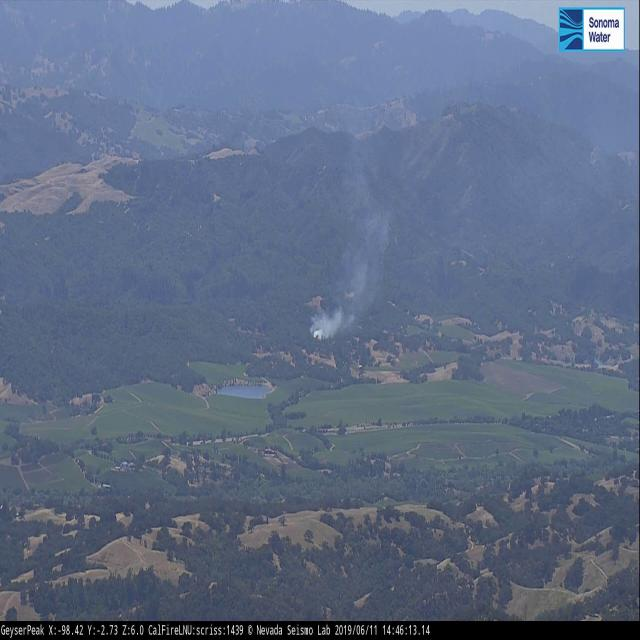smoke: (304, 125, 397, 348)
